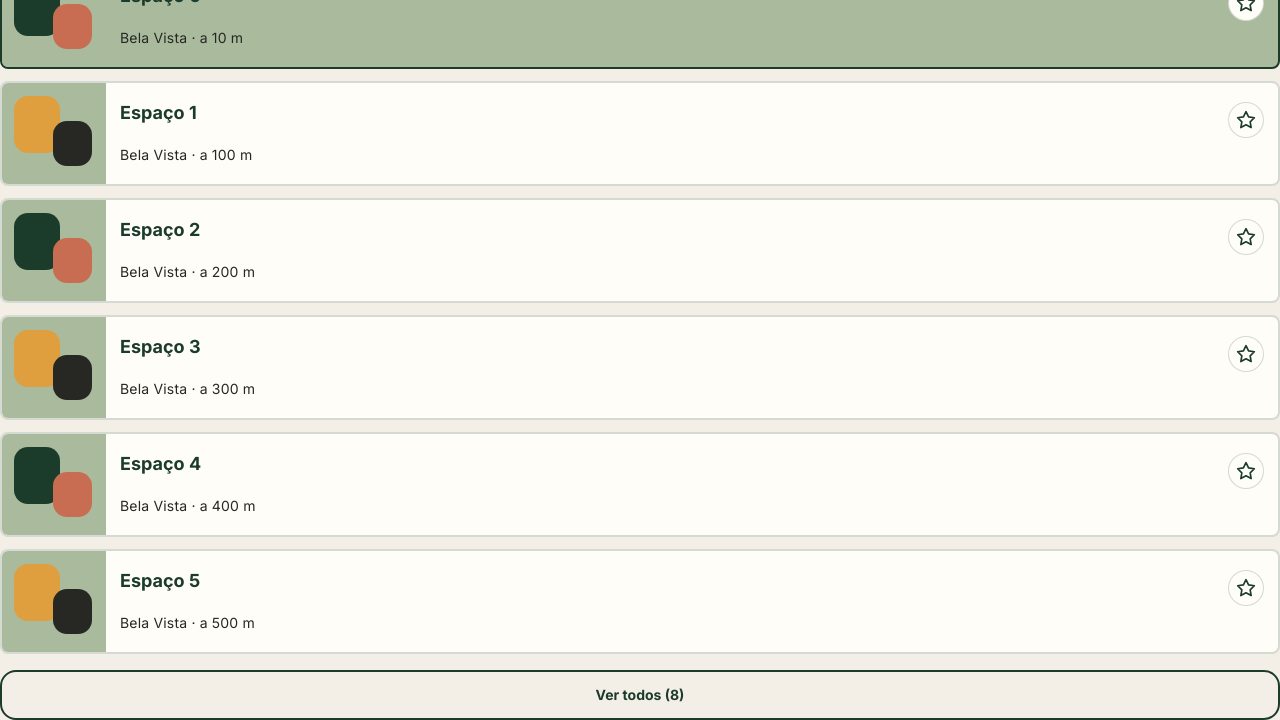
Scenario: PlaceResults › começa resumida e mostra todos com "Ver todos"
(page scrolled)
Click the button "Ver todos (8)". click: (640, 695)
box: [0, 670, 1279, 719]
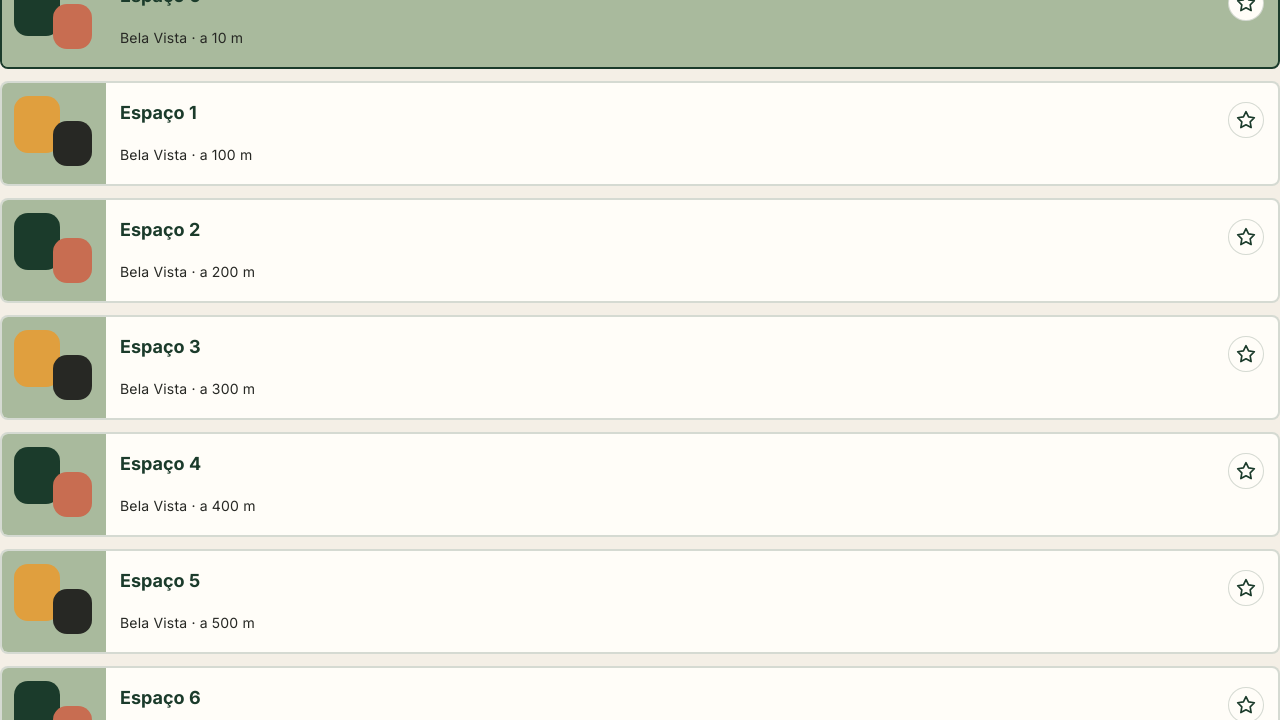
Expected: the number of list items is 8
